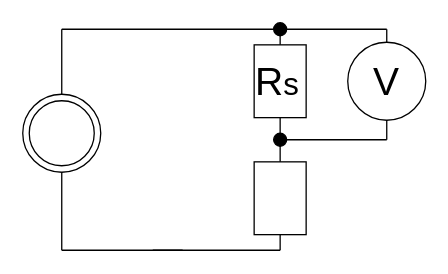
This 448x274 diagram has some shape labels left out. Each missing label, with the centre of its shape:
"I src" belongs at (61,132).
"R L" belongs at (279,198).
